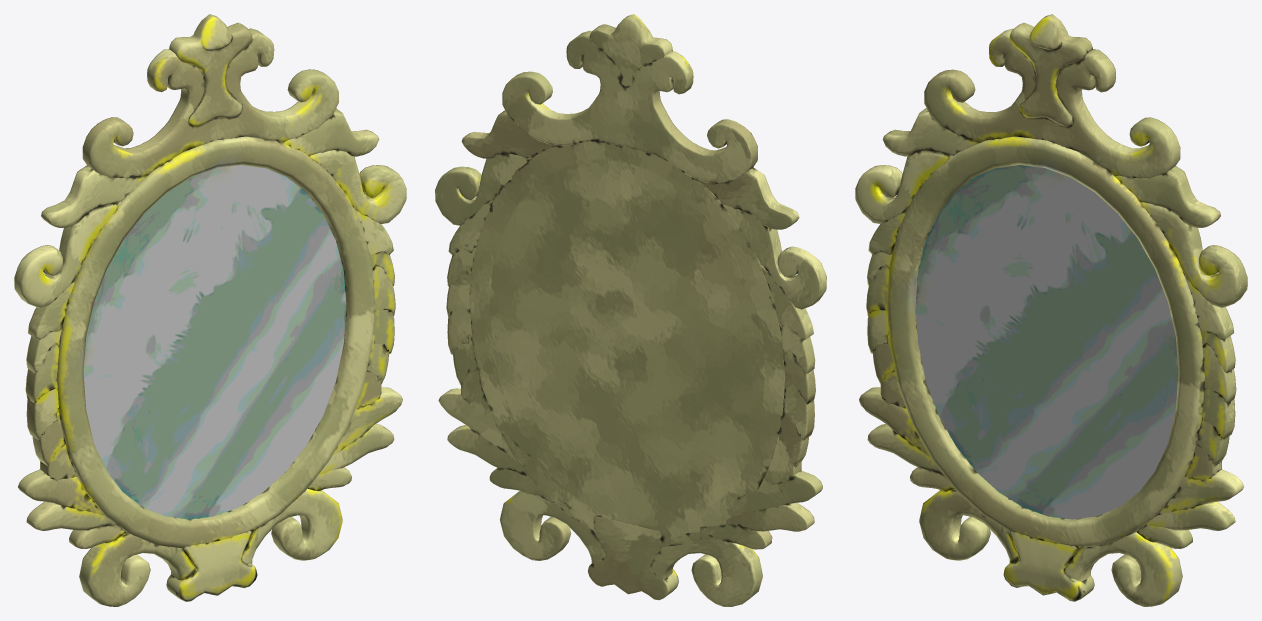
Rendered from Mirror.fbx.
3 renders of one model, left to right at view 1: azimuth 30°, elevation 25°; view 2: azimuth 150°, elevation 25°; view 3: azimuth 330°, elevation 25°, orthographic.
Visible parts, largest first — view 1: mirror_mdl_v01; view 2: mirror_mdl_v01; view 3: mirror_mdl_v01.
Part boxes in pixels (bbox=[...]): mirror_mdl_v01: bbox=[14, 14, 406, 606]; mirror_mdl_v01: bbox=[435, 14, 826, 606]; mirror_mdl_v01: bbox=[855, 14, 1247, 606].
Bounding box in the file's own units: 150 × 214 × 9.55.
Materials: 1 (1 with a texture image).
